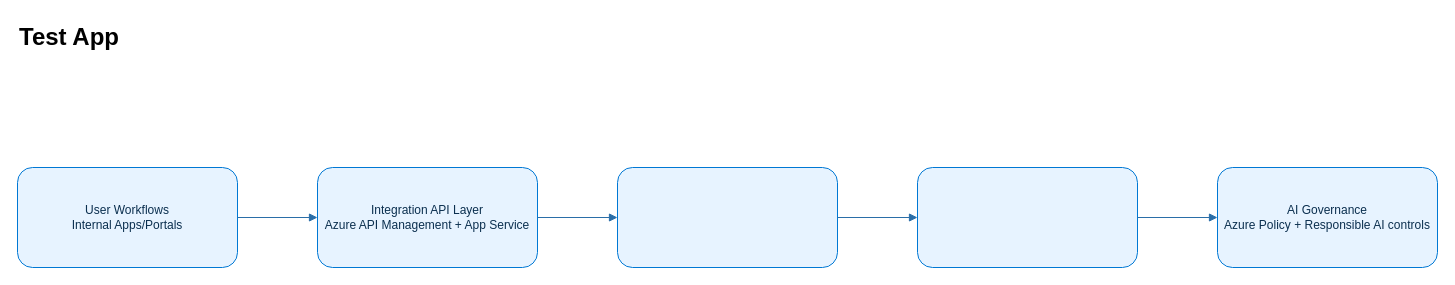
Some shapes in this 1455 by 285 pixel diagram are drawn without their labels. Here are the shapes that lost their labels. From the top down, the centre of each, then its label:
pixel 727 217: Data Foundation Azure SQL/Storage
pixel 1027 217: Observability Application Insights + Log Analytics
